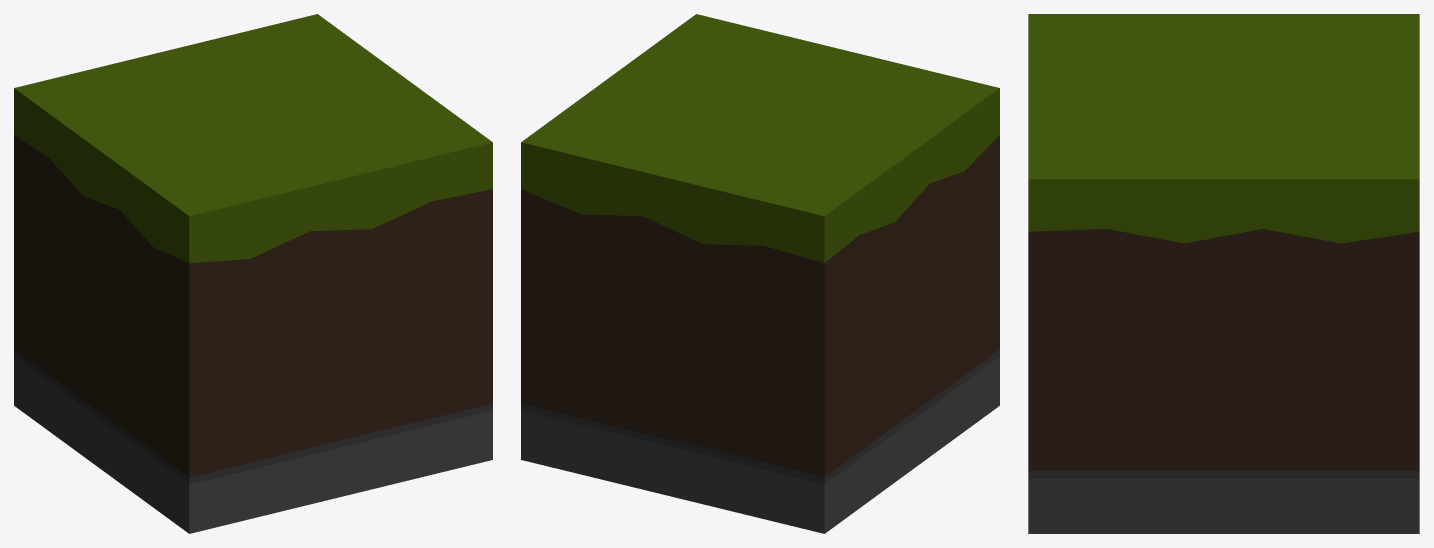
Rendered from plane-grass.fbx.
3 renders of one model, left to right at view 1: azimuth 30°, elevation 25°; view 2: azimuth 150°, elevation 25°; view 3: azimuth 270°, elevation 25°, orthographic. The views are drawn at different scales.
Parts seen in each view (by area): view 1: plane-grass; view 2: plane-grass; view 3: plane-grass.
Boxes of the visible parts, left/top/right/bottom form: plane-grass: left=14, top=14, right=492, bottom=533; plane-grass: left=521, top=14, right=999, bottom=533; plane-grass: left=1028, top=14, right=1419, bottom=533.
Bounding box in the file's own units: 300 × 300 × 300.
